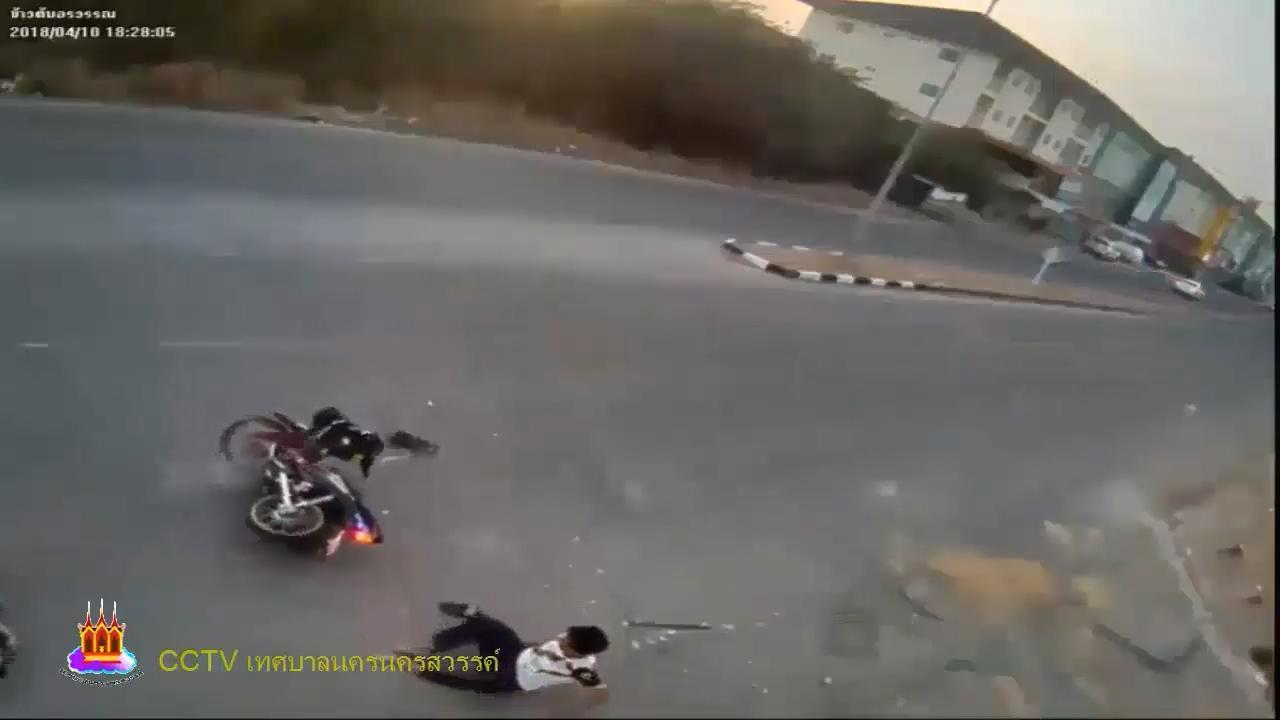accident: (392, 596, 620, 709)
